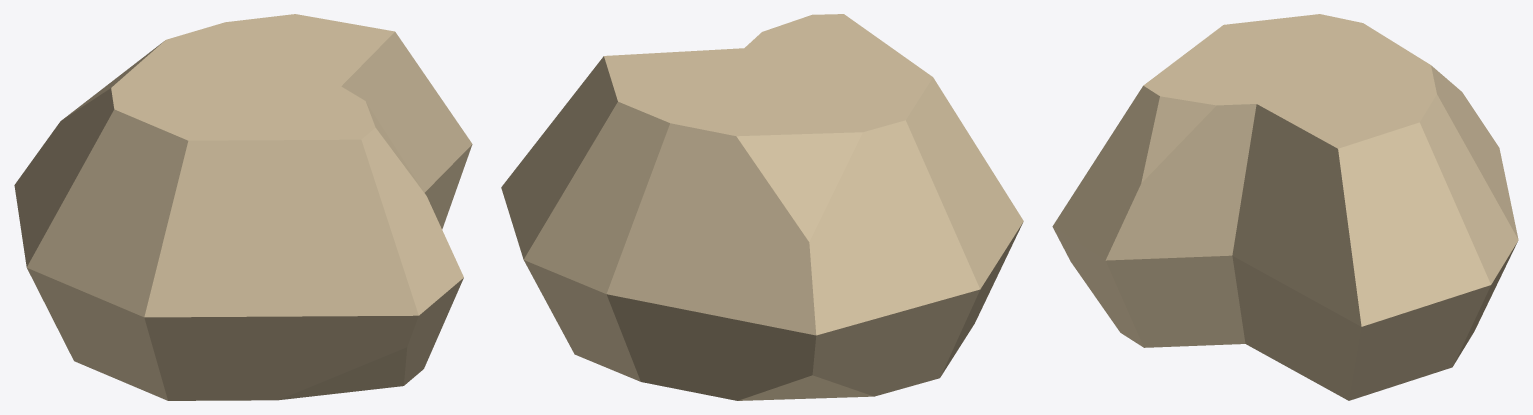
File: naturePack_008.fbx
3 renders of one model, left to right at view 1: azimuth 30°, elevation 25°; view 2: azimuth 150°, elevation 25°; view 3: azimuth 270°, elevation 25°, orthographic. The views are drawn at different scales.
Visible parts, largest first — view 1: naturePack_008; view 2: naturePack_008; view 3: naturePack_008.
Part boxes in pixels (x1=…): naturePack_008: x1=14, y1=14, x2=472, y2=400; naturePack_008: x1=501, y1=14, x2=1023, y2=400; naturePack_008: x1=1052, y1=14, x2=1518, y2=400.
Bounding box in the file's own units: 310 × 158 × 286.
